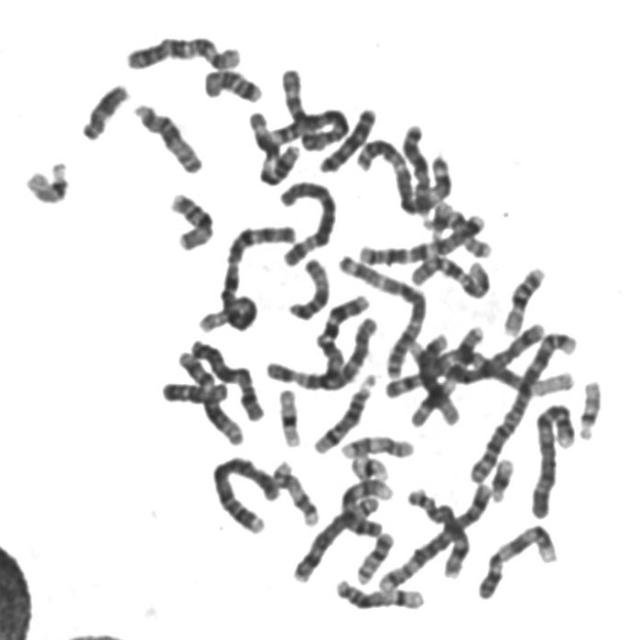A1: (198, 217, 301, 337), (403, 333, 579, 398)
A2: (464, 323, 582, 487), (266, 60, 350, 153)
A3: (332, 247, 430, 379), (352, 130, 458, 216)
B4: (526, 396, 580, 520), (208, 450, 284, 536)
B5: (374, 476, 496, 595), (382, 327, 572, 399)
C10: (121, 28, 244, 73), (406, 247, 494, 301)
C11: (404, 320, 487, 428), (245, 106, 303, 186)
C12: (171, 343, 248, 448), (406, 332, 463, 426)
C6: (260, 309, 382, 392), (274, 174, 339, 268)
C7: (353, 206, 490, 266), (311, 287, 373, 373)
C8: (288, 488, 384, 584), (402, 481, 471, 581)
C9: (472, 517, 562, 602), (335, 471, 397, 538)
D13: (313, 100, 380, 174), (397, 116, 438, 218)
D14: (309, 366, 379, 456), (330, 572, 428, 613)
D15: (128, 95, 206, 176), (283, 250, 333, 322)
E16: (499, 259, 549, 336), (165, 186, 217, 253)
E17: (268, 455, 322, 528), (335, 428, 418, 460)
E18: (198, 62, 266, 105), (156, 376, 232, 406)
F19: (273, 381, 305, 449), (345, 447, 392, 483)
F20: (442, 205, 494, 259), (352, 526, 398, 586)
G21: (486, 450, 518, 503), (419, 196, 455, 236)
G22: (574, 372, 605, 442), (24, 160, 68, 206)
X: (185, 334, 267, 424)
Y: (75, 76, 132, 142)
